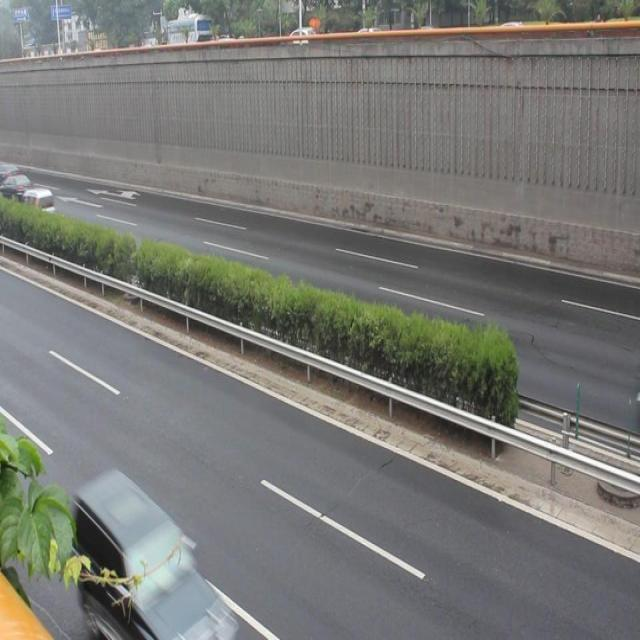car: (65, 461, 256, 640)
